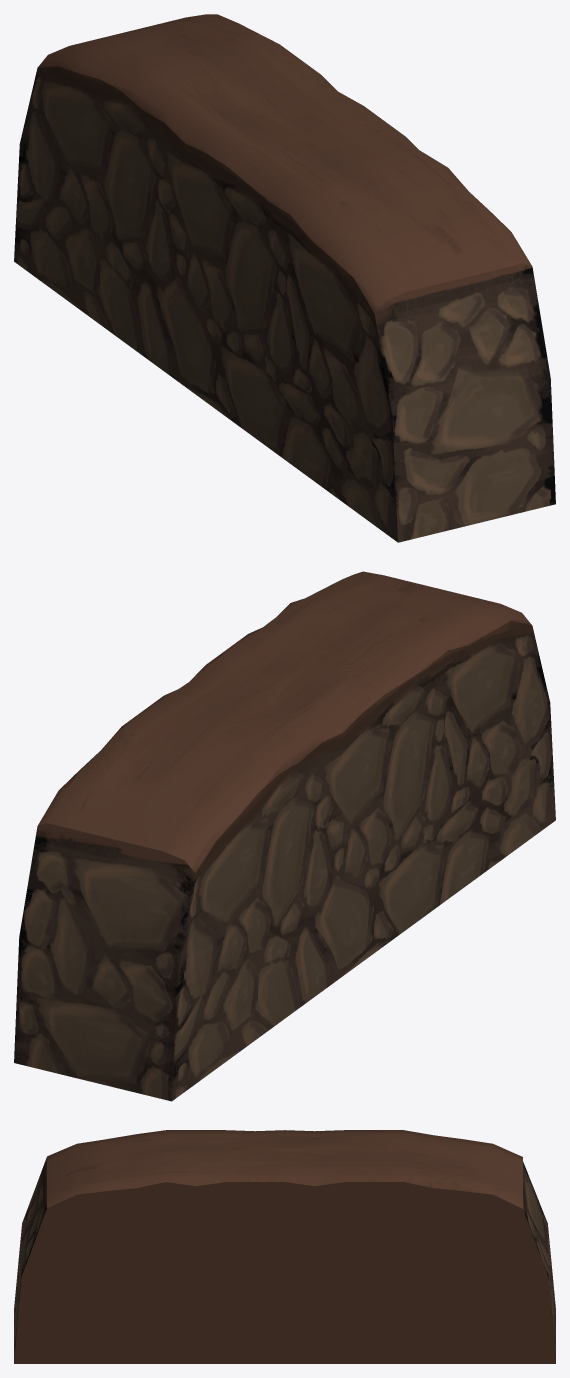
File: Rotsje.fbx
The picture shows the model from 3 angles, top to bottom: view 1: azimuth 30°, elevation 25°; view 2: azimuth 150°, elevation 25°; view 3: azimuth 270°, elevation 25°; orthographic projection. The views are drawn at different scales.
Visible parts, largest first — view 1: pCube1; view 2: pCube1; view 3: pCube1.
Boxes of the visible parts, x1,y1,x2,y2 form: pCube1: (14, 14, 555, 542); pCube1: (14, 571, 555, 1101); pCube1: (14, 1130, 555, 1363).
Bounding box in the file's own units: 7.87 × 12.59 × 33.15.
1 material, 1 textured.
